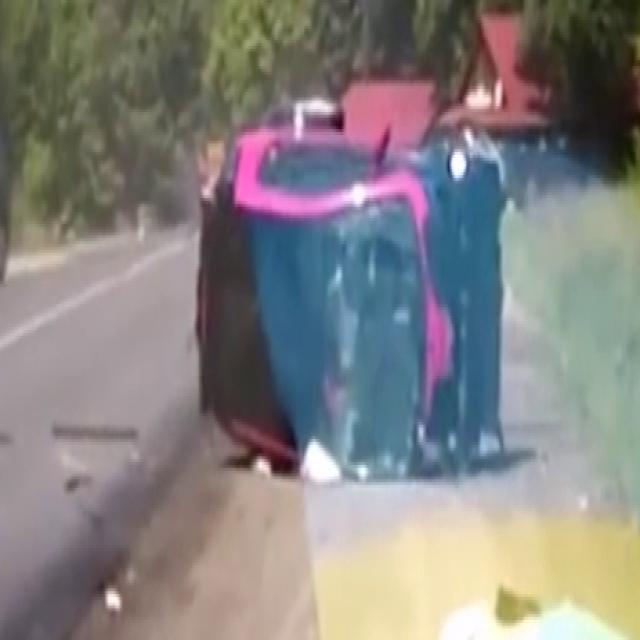accident: (201, 101, 511, 516)
